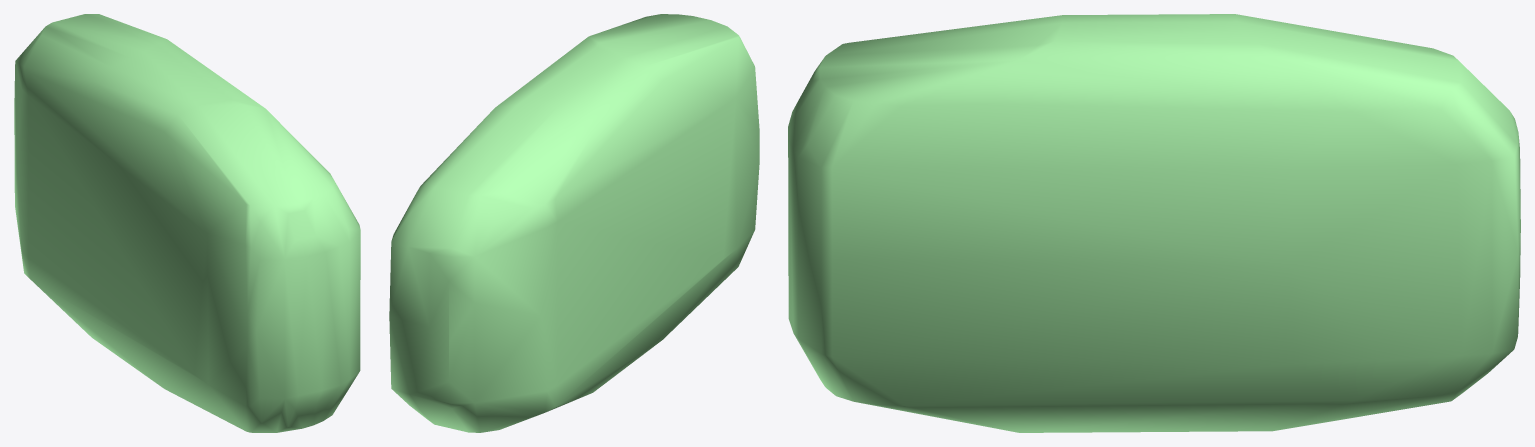
File: mrRM_robot_base_coll_1.obj
The picture shows the model from 3 angles, left to right: view 1: azimuth 30°, elevation 25°; view 2: azimuth 150°, elevation 25°; view 3: azimuth 270°, elevation 25°; orthographic projection. The views are drawn at different scales.
Visible parts, largest first — view 1: mesh_0; view 2: mesh_0; view 3: mesh_0.
Part boxes in pixels (box(x1,y1,x2,y2)): mesh_0: box(14, 14, 360, 432); mesh_0: box(389, 14, 759, 432); mesh_0: box(788, 14, 1520, 432).
Bounding box in the file's own units: 0.0921 × 0.1921 × 0.332.
